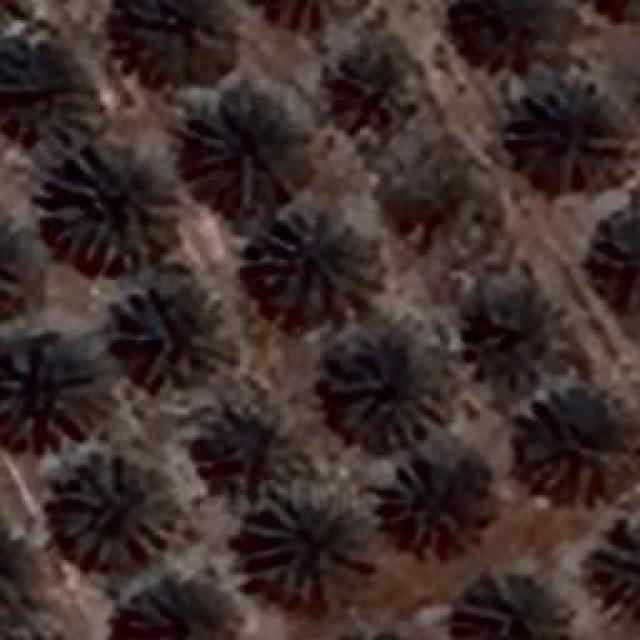PalmTree: (40, 145, 180, 270), (180, 92, 305, 210), (52, 455, 186, 565), (240, 488, 372, 598), (255, 210, 383, 318), (0, 330, 105, 445), (328, 350, 440, 448), (128, 288, 238, 382), (115, 0, 235, 85), (522, 80, 626, 178), (378, 454, 486, 548), (515, 401, 630, 489), (320, 38, 416, 130), (446, 0, 568, 71), (452, 570, 578, 638), (388, 154, 476, 248), (466, 286, 554, 379), (108, 575, 226, 640), (0, 42, 70, 148), (205, 410, 298, 482), (582, 204, 640, 318), (584, 520, 638, 622), (248, 0, 381, 40), (0, 528, 47, 640), (0, 211, 45, 327)
